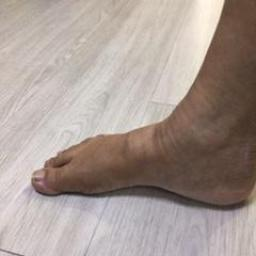Medial View -Right Foot-: (23, 79, 255, 215)
